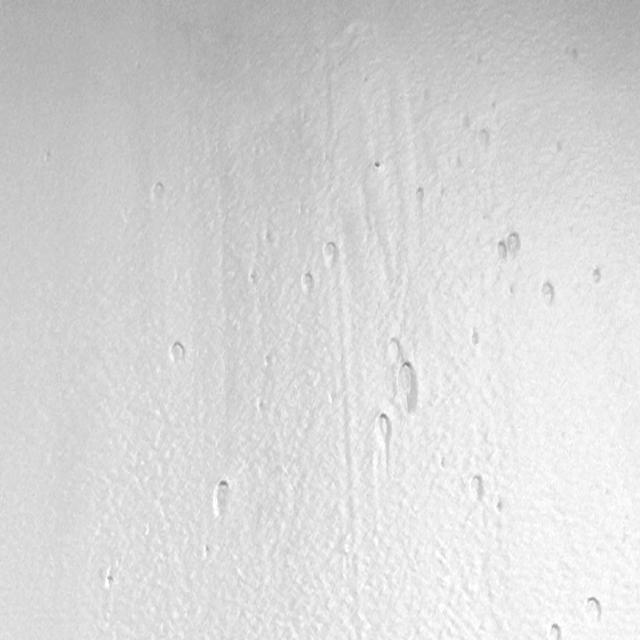pin holes: (398, 353, 422, 422), (208, 478, 235, 523), (580, 595, 604, 625), (537, 278, 558, 308), (166, 340, 189, 367), (374, 412, 394, 443), (148, 178, 169, 207), (298, 270, 319, 298), (466, 474, 487, 502), (321, 241, 341, 269), (384, 336, 404, 364), (503, 233, 522, 258), (475, 126, 493, 151), (585, 264, 602, 288), (543, 621, 563, 640), (494, 238, 508, 263), (102, 572, 117, 592), (493, 498, 506, 519), (259, 230, 273, 247), (468, 330, 481, 348), (412, 185, 423, 206), (436, 455, 448, 473), (198, 542, 210, 560), (504, 283, 516, 301), (247, 270, 259, 287), (261, 356, 272, 372), (369, 159, 381, 173)
